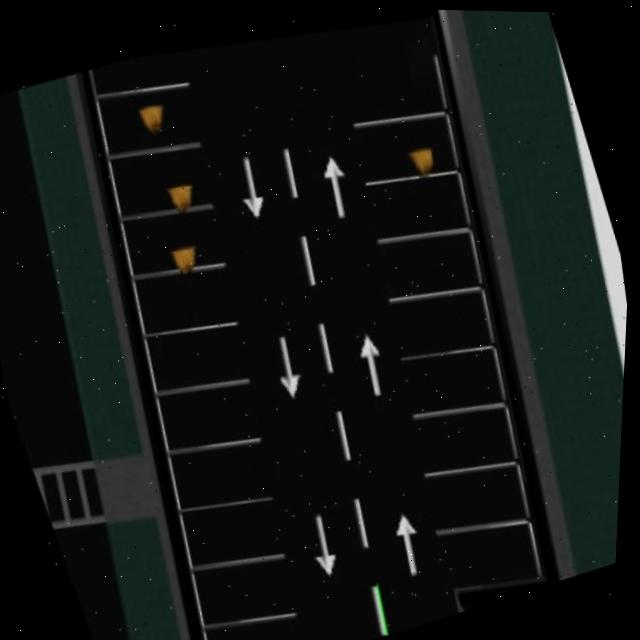garbage-trXY: (162, 178, 202, 215), (168, 238, 202, 274), (135, 100, 169, 134), (408, 142, 441, 176)
